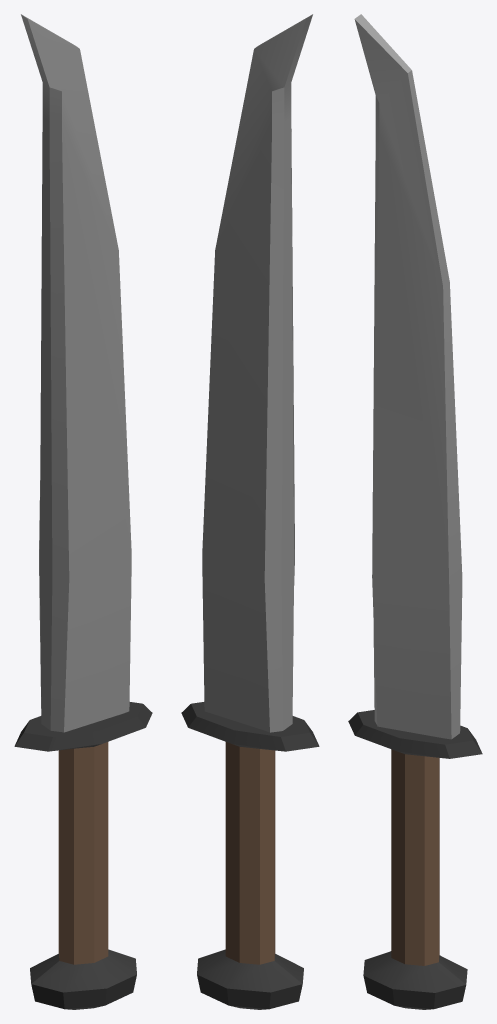
The model's file is Sword.fbx.
The picture shows the model from 3 angles, left to right: view 1: azimuth 30°, elevation 25°; view 2: azimuth 150°, elevation 25°; view 3: azimuth 330°, elevation 25°; orthographic projection. The views are drawn at different scales.
Visible parts, largest first — view 1: Sword; view 2: Sword; view 3: Sword.
Boxes of the visible parts, x1,y1,x2,y2 form: Sword: (14,14,152,1009); Sword: (181,14,319,1009); Sword: (348,14,482,1009).
Size of the model in its own units: 38.38 by 265 by 22.61.
